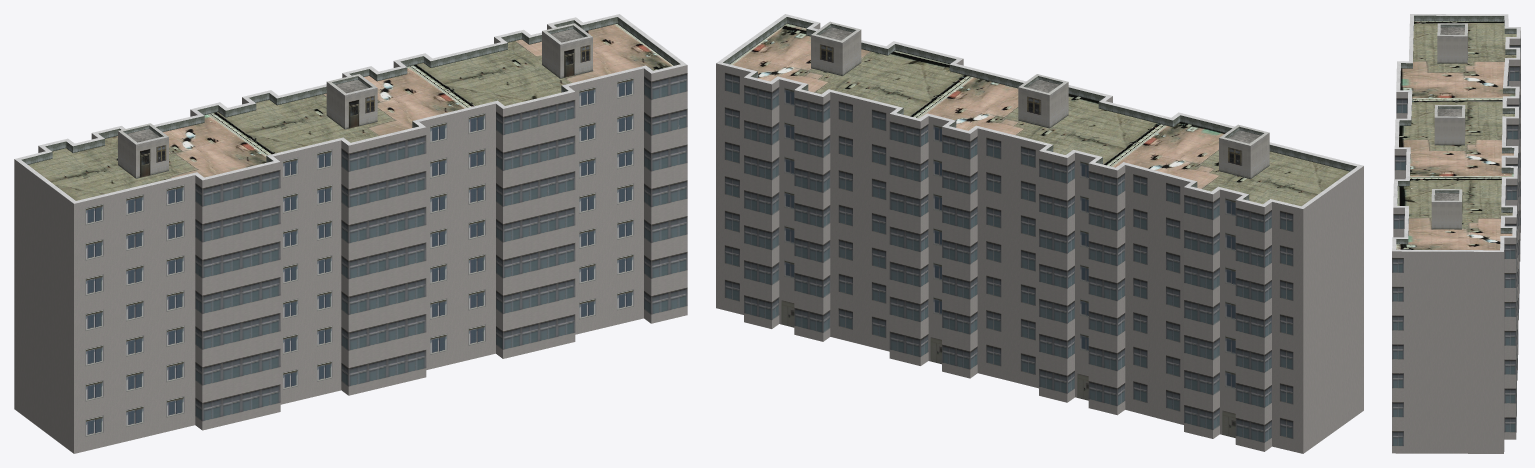
3 views of the same model, side by side, from view 1: azimuth 30°, elevation 25°; view 2: azimuth 150°, elevation 25°; view 3: azimuth 270°, elevation 25° (orthographic). The views are drawn at different scales.
Parts seen in each view (by area): view 1: jz15; view 2: jz15; view 3: jz15.
Part boxes in pixels (box(x1,y1,x2,y2)): jz15: box(14, 14, 687, 453); jz15: box(716, 14, 1363, 453); jz15: box(1392, 14, 1520, 453).
Size of the model in its own units: 5565 by 2443 by 1273.
Materials: 14 (14 with a texture image).
